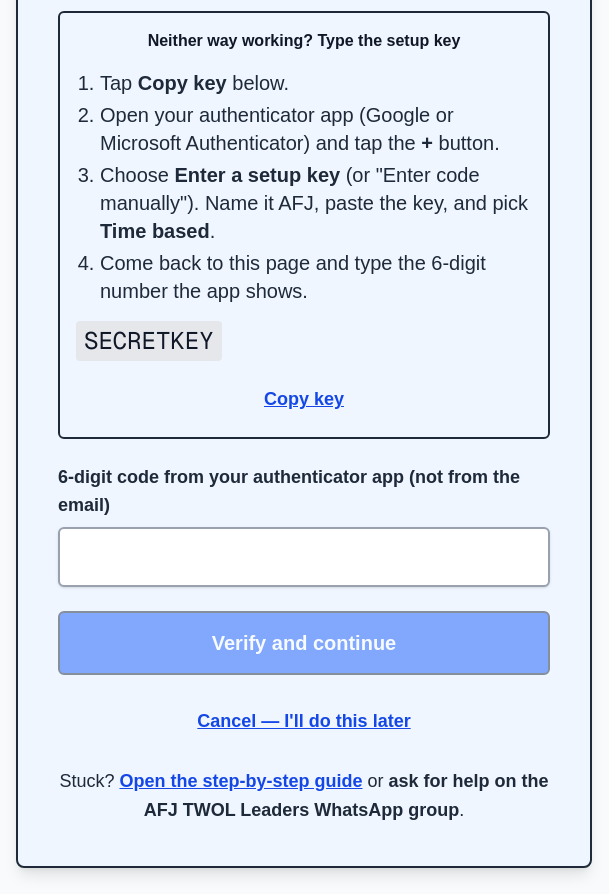
SetupMfaPage › TOTP enrollment › cancelling signs out and shows a "no problem" screen
(page scrolled)
Click the button "Cancel — I'll do this later". click: (304, 721)
box: [58,699,550,743]
(page scrolled)
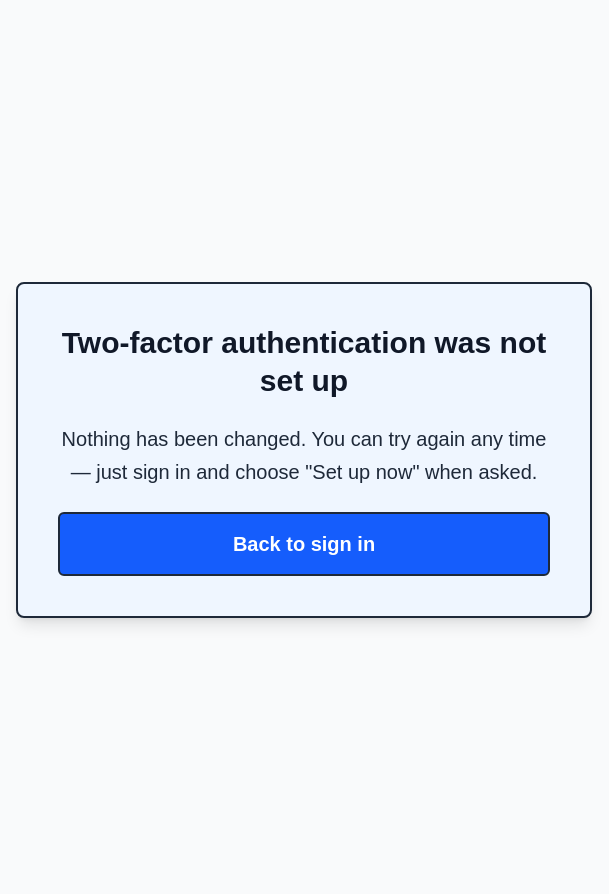
Expected: the heading "Two-factor authentication was not set up" is shown, [58,324,550,399]
